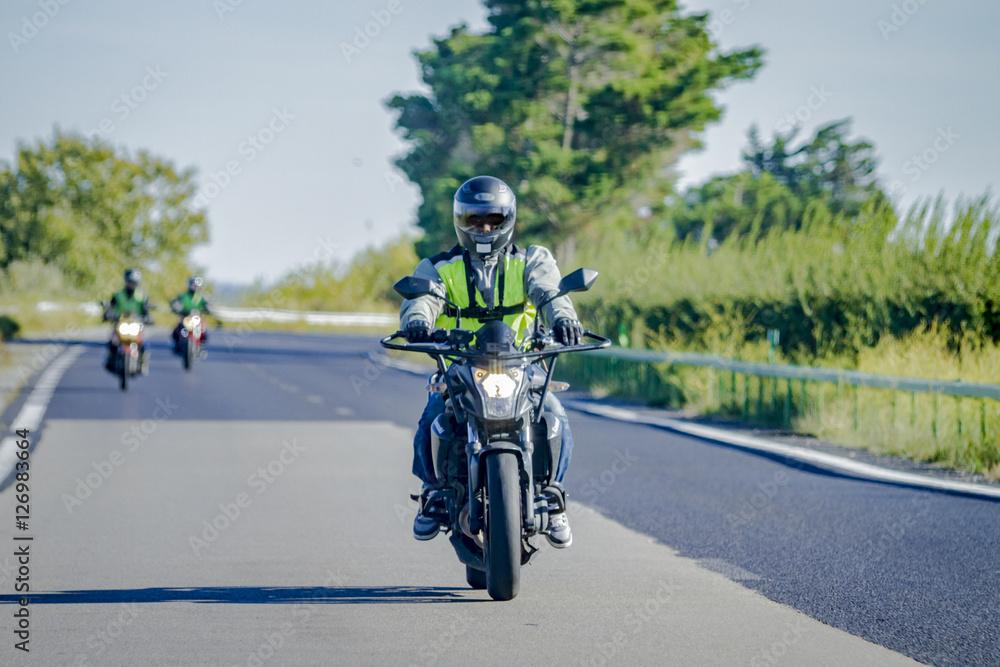helmet: (452, 174, 517, 262)
